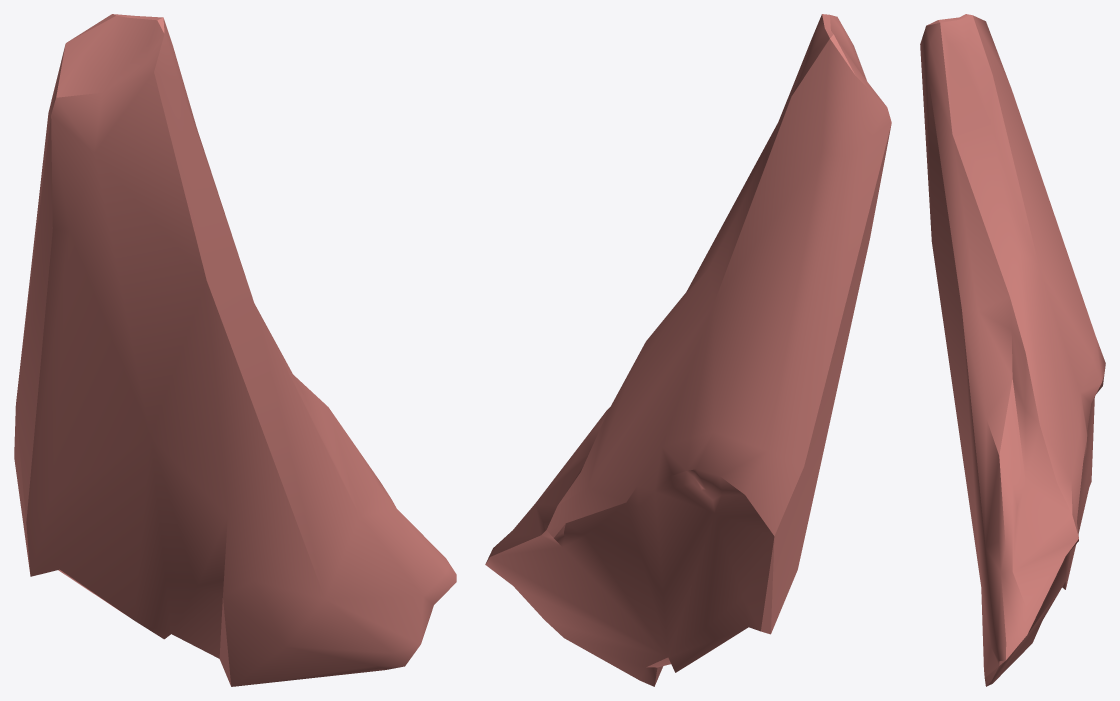
The model's file is fma82367_mm3994.glb.
3 views of the same model, side by side, from view 1: azimuth 30°, elevation 25°; view 2: azimuth 150°, elevation 25°; view 3: azimuth 270°, elevation 25° (orthographic). The views are drawn at different scales.
Parts seen in each view (by area): view 1: FMA82367_MM3994; view 2: FMA82367_MM3994; view 3: FMA82367_MM3994.
Part boxes in pixels (x1=…): FMA82367_MM3994: x1=14, y1=14, x2=456, y2=686; FMA82367_MM3994: x1=485, y1=14, x2=891, y2=686; FMA82367_MM3994: x1=920, y1=14, x2=1105, y2=686.
Bounding box in the file's own units: 0.0115 × 0.0189 × 0.00558.
